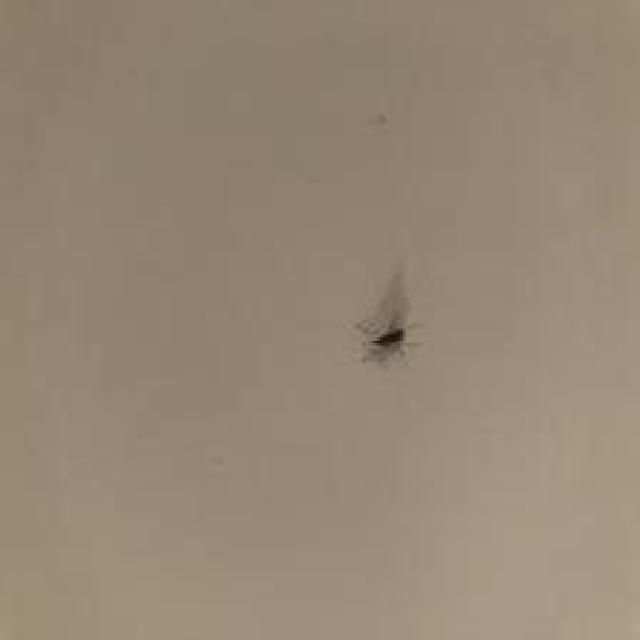Culex: (351, 270, 423, 367)
